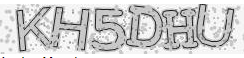5: (89, 7, 126, 52)
D: (126, 4, 164, 51)
H: (51, 5, 90, 52), (162, 7, 198, 51)
K: (14, 4, 53, 53)
U: (196, 3, 236, 50)
